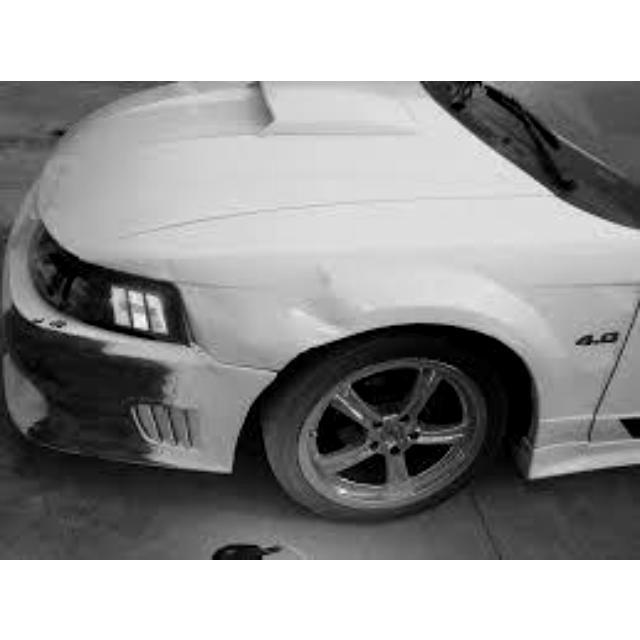fender-dent: (255, 214, 531, 349)
front-bumper-dent: (7, 315, 217, 465)
